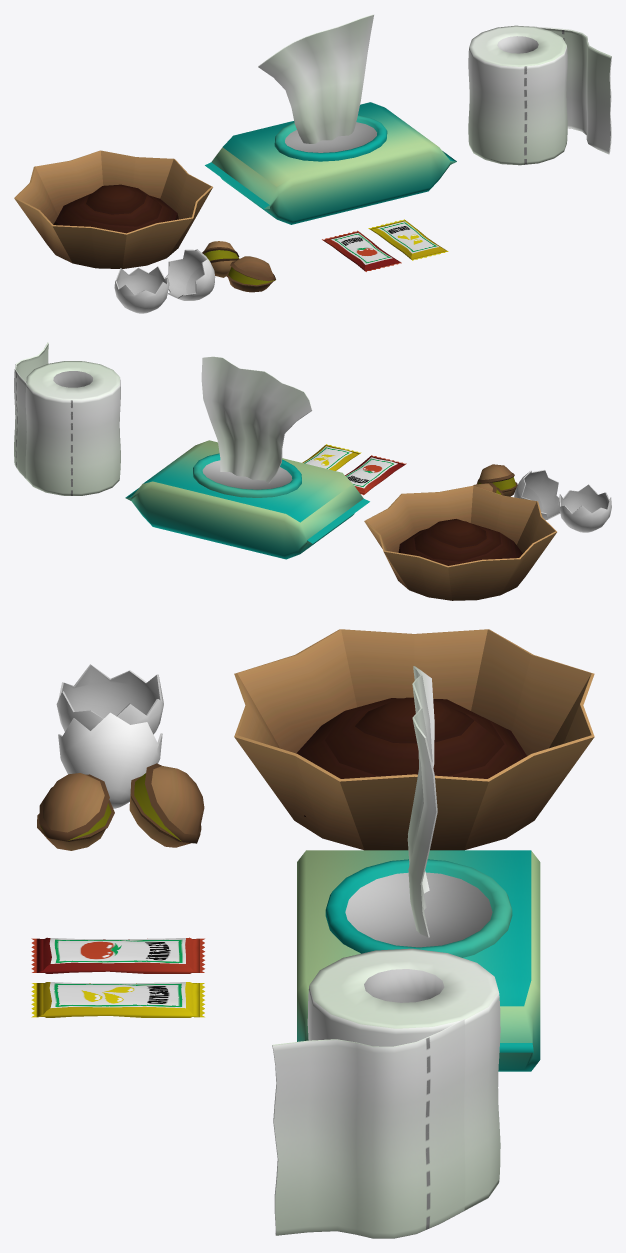
Rendered from Trash Collection.fbx.
3 views of the same model, one above another, from view 1: azimuth 30°, elevation 25°; view 2: azimuth 150°, elevation 25°; view 3: azimuth 270°, elevation 25° (orthographic). The views are drawn at different scales.
Visible parts, largest first — view 1: Flushable Wipes, Grounds & Shells, Toilet Paper, Packet; view 2: Flushable Wipes, Grounds & Shells, Toilet Paper, Packet; view 3: Grounds & Shells, Toilet Paper, Flushable Wipes, Packet.
Part boxes in pixels (x1,y1,x2,y2): Flushable Wipes: (205, 14, 456, 224); Grounds & Shells: (14, 150, 275, 313); Toilet Paper: (468, 25, 611, 165); Packet: (322, 219, 448, 271); Flushable Wipes: (125, 356, 369, 559); Grounds & Shells: (364, 464, 611, 600); Toilet Paper: (14, 342, 120, 495); Packet: (302, 444, 406, 495); Grounds & Shells: (37, 629, 594, 850); Toilet Paper: (272, 948, 500, 1238); Flushable Wipes: (297, 666, 540, 1071); Packet: (31, 937, 204, 1017).
Size of the model in its own units: 529 by 152 by 244.
Materials: 4 (4 with a texture image).
